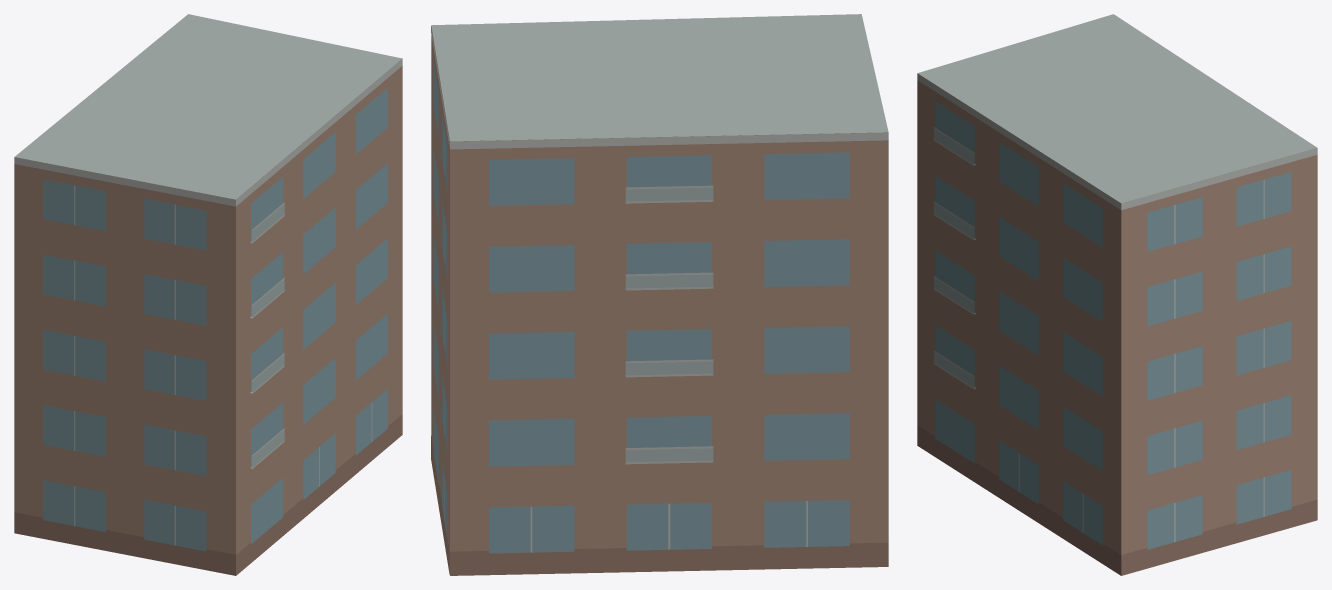
File: survey-upis-32957254.glb
3 views of the same model, side by side, from view 1: azimuth 30°, elevation 25°; view 2: azimuth 150°, elevation 25°; view 3: azimuth 270°, elevation 25° (orthographic). The views are drawn at different scales.
Parts seen in each view (by area): view 1: survey-upis-32957254.tmp; view 2: survey-upis-32957254.tmp; view 3: survey-upis-32957254.tmp.
Boxes of the visible parts, x1=… form: survey-upis-32957254.tmp: x1=14, y1=14, x2=402, y2=575; survey-upis-32957254.tmp: x1=431, y1=14, x2=888, y2=575; survey-upis-32957254.tmp: x1=917, y1=14, x2=1317, y2=575.
Bounding box in the file's own units: 14.41 × 13.2 × 12.86.
